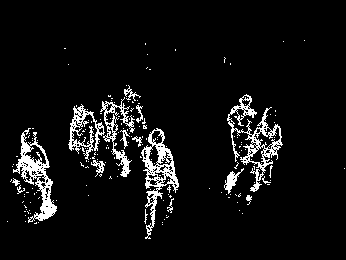person: (10, 124, 57, 223), (140, 126, 179, 243), (242, 105, 286, 206), (223, 94, 258, 190), (97, 94, 133, 178), (69, 102, 100, 180), (119, 83, 148, 150)
